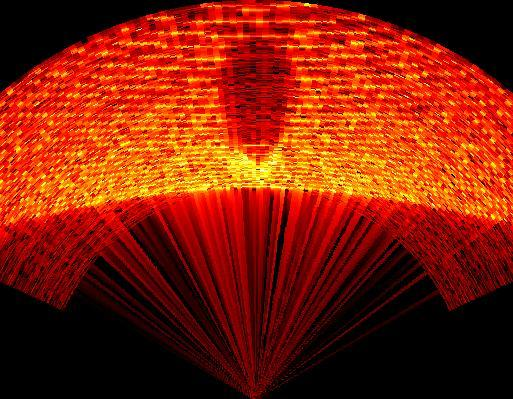box_crate: (214, 33, 300, 164)
